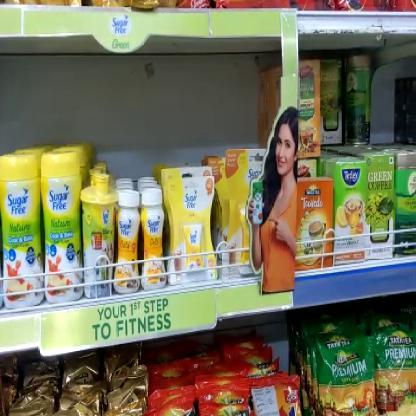SUGAR FREE GOLD 500 PELLET: (162, 168, 216, 283)
SUGAR FREE GOLD POWDER 100GM: (116, 191, 141, 292), (140, 188, 164, 285)
SUGAR FREE NATURA DIET SUGAR 80GM: (0, 154, 41, 307), (40, 149, 80, 297)
